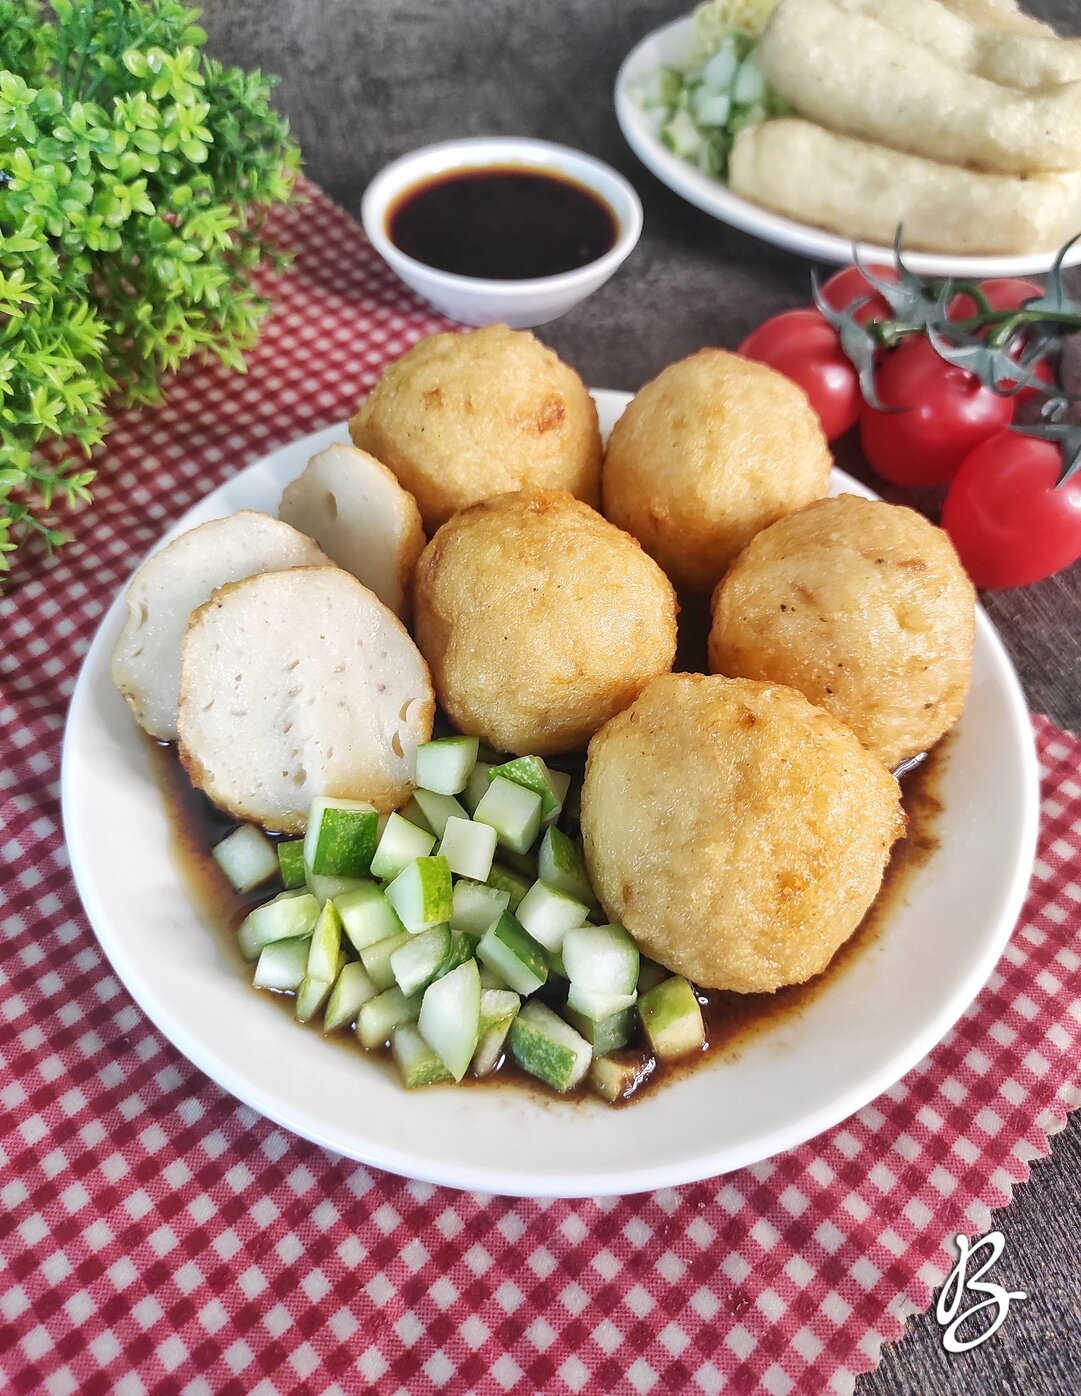pempek: (145, 280, 1001, 1126)
